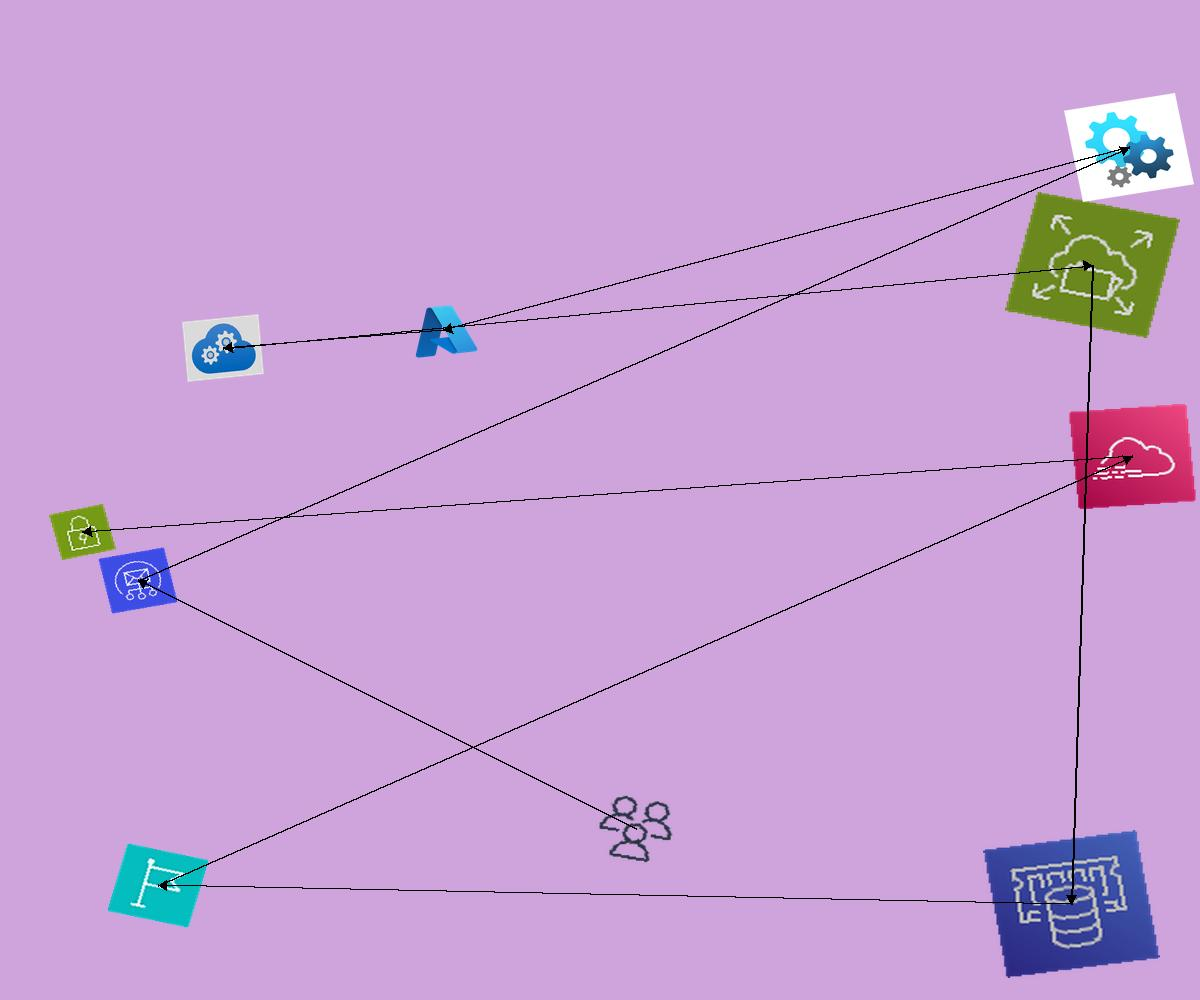AWS-CloudTrail: (1068, 403, 1197, 510)
AWS-EFS: (1005, 192, 1180, 338)
AWS-ElastiCache: (983, 830, 1160, 978)
AWS-Public-subnet: (48, 503, 117, 561)
AWS-Region: (107, 843, 209, 928)
AWS-Res_Users: (588, 789, 684, 869)
AWS-Simple-Email-Service: (98, 547, 178, 614)
Azure_api: (1064, 93, 1194, 202)
Azure_cloud_services: (182, 314, 264, 382)
Azure_services: (405, 299, 481, 362)
